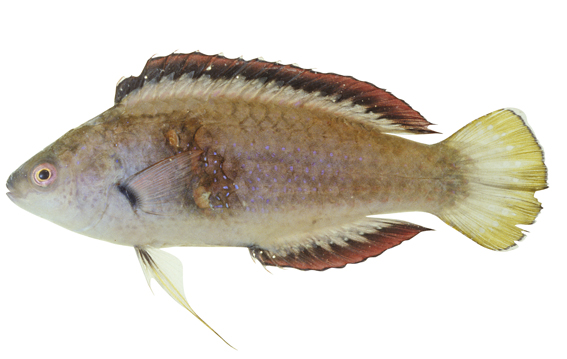fish: (6, 51, 548, 349)
